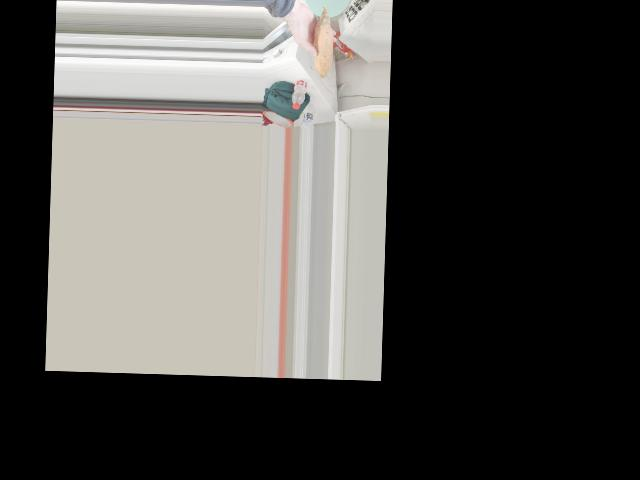sweet_potato: (314, 16, 330, 68)
